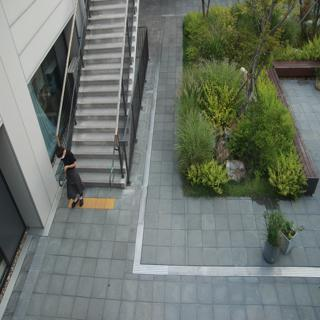person: (52, 139, 94, 214)
